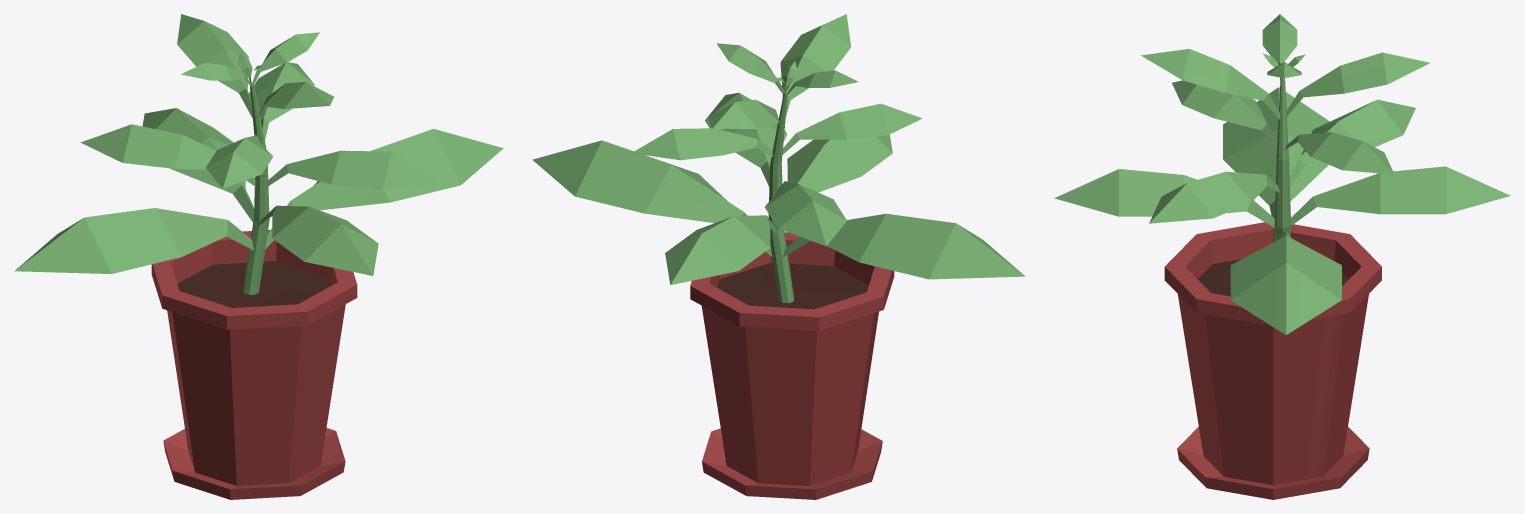
Rendered from planta-vaso-vermelho.glb.
3 views of the same model, side by side, from view 1: azimuth 30°, elevation 25°; view 2: azimuth 150°, elevation 25°; view 3: azimuth 270°, elevation 25° (orthographic). The views are drawn at different scales.
Parts seen in each view (by area): view 1: Potted_Plant.000; view 2: Potted_Plant.000; view 3: Potted_Plant.000.
Part boxes in pixels (x1,y1,x2,y2): Potted_Plant.000: [14, 14, 503, 499]; Potted_Plant.000: [532, 14, 1025, 499]; Potted_Plant.000: [1054, 14, 1510, 499].
Size of the model in its own units: 1.13 by 0.9 by 0.8852.
Materials: 1 (1 with a texture image).
